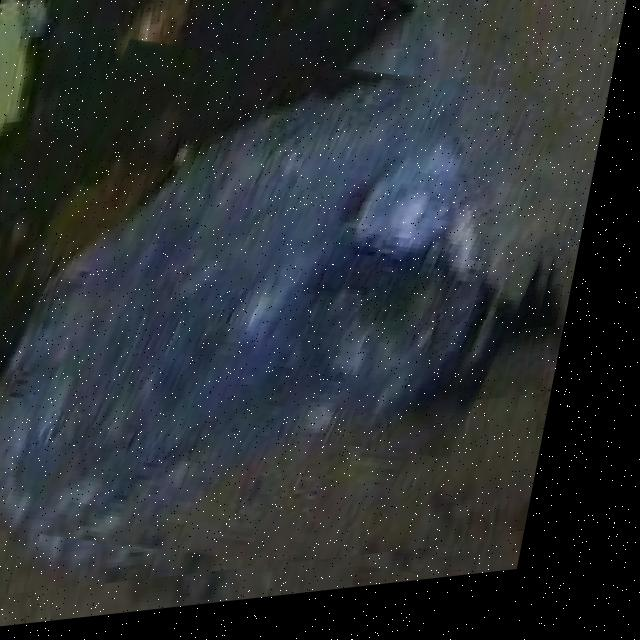plasticbottle: (0, 27, 616, 603)
